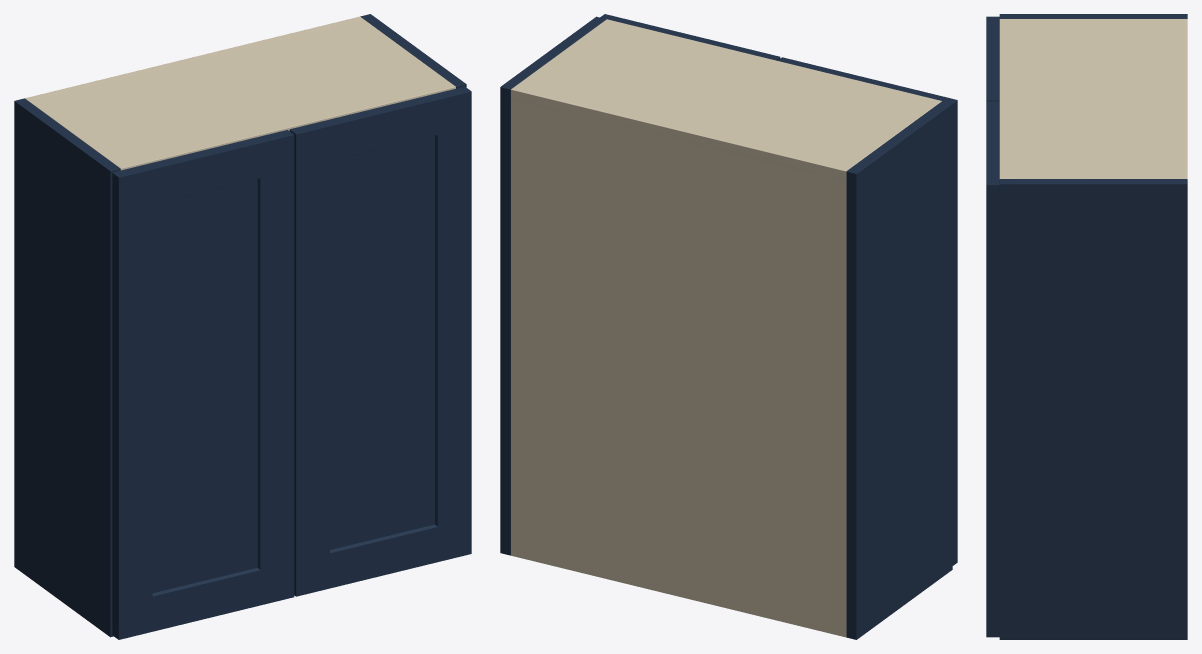
The model's file is oppein-ply-bss-w2430.glb.
3 views of the same model, side by side, from view 1: azimuth 30°, elevation 25°; view 2: azimuth 150°, elevation 25°; view 3: azimuth 270°, elevation 25° (orthographic). The views are drawn at different scales.
Visible parts, largest first — view 1: Door, Door.001, Cabinet side, Cabinet top, Cabinet back, Cabinet side.001; view 2: Cabinet back, Cabinet side, Cabinet top, Cabinet side.001, Door, Door.001; view 3: Cabinet side.001, Cabinet top, Door.001, Cabinet back, Door, Cabinet side.
Boxes of the visible parts, left/top/right/bottom form: Door: left=112, top=130, right=294, bottom=639; Door.001: left=289, top=86, right=471, bottom=596; Cabinet side: left=14, top=98, right=120, bottom=637; Cabinet top: left=25, top=19, right=455, bottom=170; Cabinet back: left=25, top=16, right=363, bottom=100; Cabinet side.001: left=360, top=14, right=466, bottom=88; Cabinet back: left=511, top=87, right=848, bottom=636; Cabinet side: left=846, top=101, right=952, bottom=639; Cabinet top: left=511, top=19, right=941, bottom=181; Cabinet side.001: left=500, top=16, right=606, bottom=555; Door: left=777, top=57, right=957, bottom=565; Door.001: left=600, top=14, right=780, bottom=60; Cabinet side.001: left=999, top=179, right=1187, bottom=639; Cabinet top: left=999, top=19, right=1187, bottom=178; Door.001: left=986, top=101, right=999, bottom=637; Cabinet back: left=1180, top=19, right=1187, bottom=178; Door: left=986, top=16, right=999, bottom=101; Cabinet side: left=999, top=14, right=1187, bottom=18.
Bounding box in the file's own units: 0.6096 × 0.762 × 0.3048.
